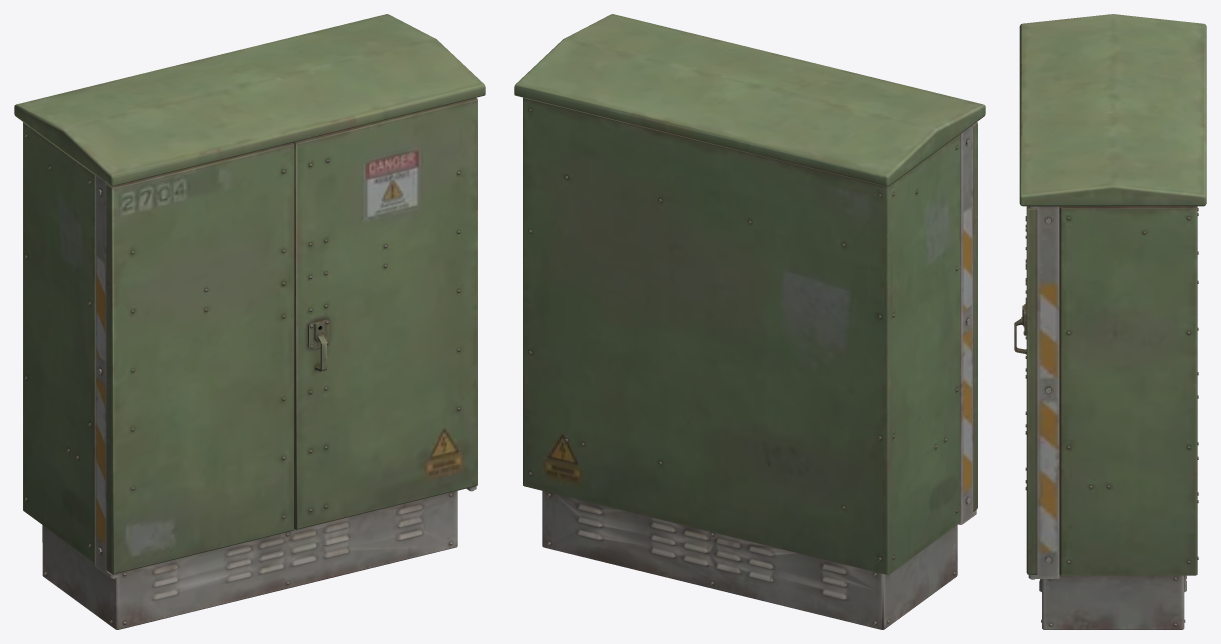
Rendered from utility_box.glb.
3 views of the same model, side by side, from view 1: azimuth 30°, elevation 25°; view 2: azimuth 150°, elevation 25°; view 3: azimuth 270°, elevation 25° (orthographic). The views are drawn at different scales.
Parts seen in each view (by area): view 1: utility_box_02; view 2: utility_box_02; view 3: utility_box_02.
Part boxes in pixels (box(x1,y1,x2,y2)): utility_box_02: box(14, 14, 485, 629); utility_box_02: box(514, 14, 985, 629); utility_box_02: box(1014, 14, 1206, 629).
Bounding box in the file's own units: 0.92 × 1.12 × 0.4319.
1 material, 1 textured.
